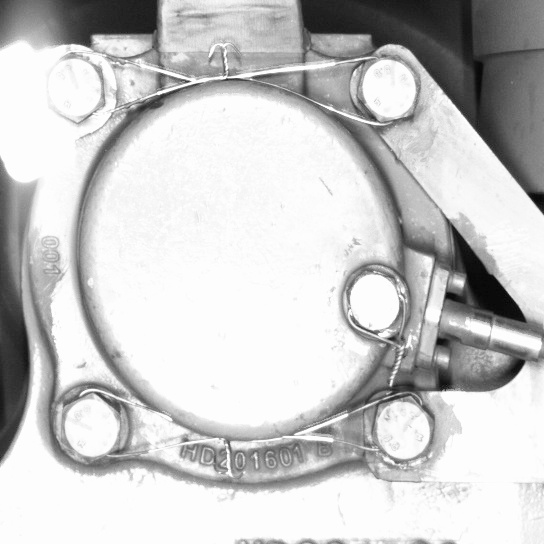IronWire: (50, 384, 440, 476), (39, 46, 424, 132)
Screw: (51, 384, 132, 473), (361, 386, 439, 475), (38, 46, 114, 131), (348, 49, 425, 132), (338, 260, 413, 344)
